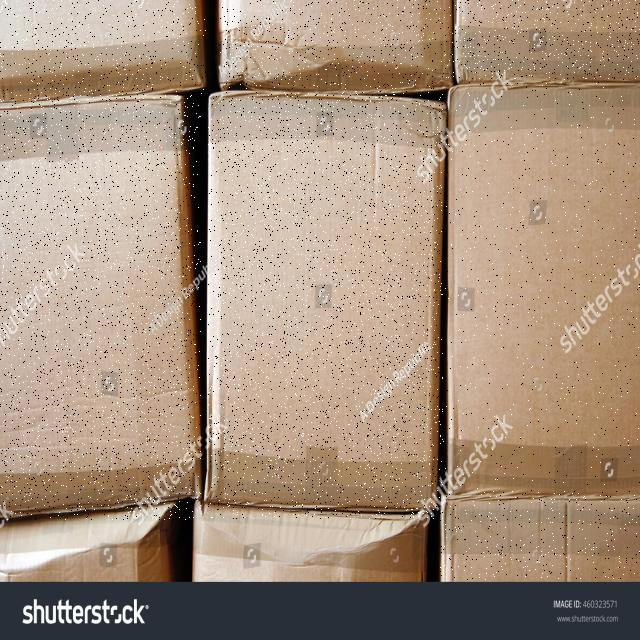BoxFace: (208, 91, 446, 519), (0, 96, 201, 520), (443, 79, 640, 497), (0, 0, 206, 105), (220, 0, 456, 89), (440, 491, 640, 580), (453, 0, 640, 87)
